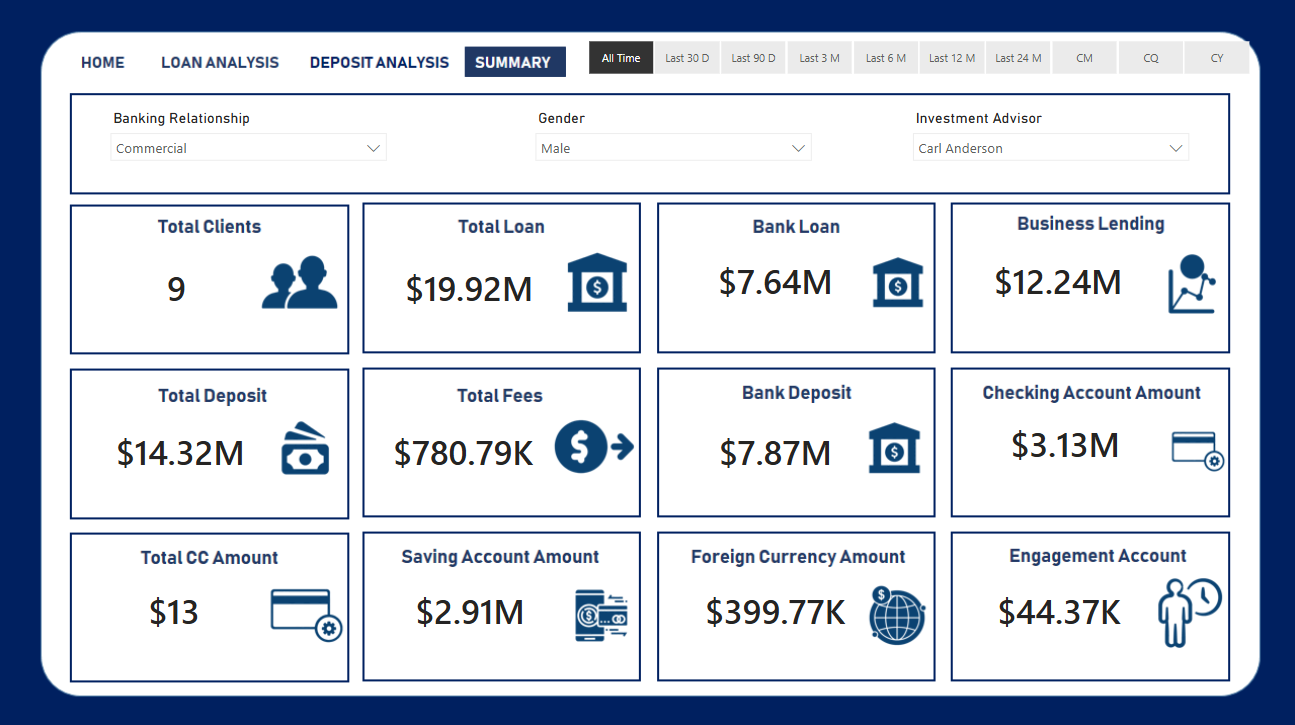

Layout of this report page (visuals, bound fields, positions):
{"tool":"powerbi","page":{"name":"Summary","canvas":[1280,720],"ordinal":3},"visuals":[{"type":"card","fields":{"Values":["DAX Measures.Engagment Length"]},"box":[946.3,546.4,198.2,114.9],"z":0},{"type":"card","fields":{"Values":["DAX Measures.Foreign Currency Account"]},"box":[667.2,546.4,198.2,114.9],"z":1000},{"type":"card","fields":{"Values":["DAX Measures.Bank Deposit"]},"box":[667.2,390.5,198.2,114.9],"z":2000},{"type":"card","fields":{"Values":["DAX Measures.Checking Accounts"]},"box":[953.4,382.3,198.2,114.9],"z":3000},{"type":"card","fields":{"Values":["DAX Measures.Bank Loan"]},"box":[667.2,220.5,198.2,114.9],"z":4000},{"type":"card","fields":{"Values":["DAX Measures.Business Lending"]},"box":[953.4,220.5,184.1,114.9],"z":5000},{"type":"card","fields":{"Values":["DAX Measures.Savings Account"]},"box":[360,546.4,207.6,114.9],"z":6000},{"type":"card","fields":{"Values":["DAX Measures.Total CC Amount"]},"box":[72.7,546.4,198.2,114.9],"z":7000},{"type":"card","fields":{"Values":["DAX Measures.Total Deposit"]},"box":[78.6,390.5,198.2,114.9],"z":8000},{"type":"card","fields":{"Values":["DAX Measures.Total Fees"]},"box":[365.9,390.5,184.1,114.9],"z":9000},{"type":"card","fields":{"Values":["DAX Measures.Total Clients"]},"box":[75,228.7,198.2,114.9],"z":10000},{"type":"card","fields":{"Values":["DAX Measures.Total Loan"]},"box":[365.9,228.7,195.8,114.9],"z":11000},{"type":"slicer","fields":{"Values":["Banking Relationship.Banking Relationship"]},"box":[98.5,104.3,292.9,75.7],"z":12000},{"type":"slicer","fields":{"Values":["Gender.Gender"]},"box":[518.9,104.3,292.9,75.7],"z":13000},{"type":"slicer","fields":{"Values":["Investment Advisor.Investment Advisor"]},"box":[891.3,104.3,292.9,75.7],"z":14000},{"type":"slicer","fields":{"Values":["Period.Name"]},"box":[555.2,34.6,702.1,46.6],"z":15000},{"type":"actionButton","box":[72.8,44.2,58.5,31],"z":16000},{"type":"actionButton","box":[306.9,44.7,119.4,31],"z":17000},{"type":"actionButton","box":[297.9,44.6,147.8,30.5],"z":18000},{"type":"actionButton","box":[157.1,44.6,125.5,30.5],"z":19000}]}

Visuals, with their boxes in screenshot pixels (x1, y1, x2, y2), scaled from the page's 1280x720 canvas onto the 1295x725 screenshot:
card - DAX Measures.Engagment Length: locate(957, 550, 1158, 666)
card - DAX Measures.Foreign Currency Account: locate(675, 550, 876, 666)
card - DAX Measures.Bank Deposit: locate(675, 393, 876, 509)
card - DAX Measures.Checking Accounts: locate(965, 385, 1165, 501)
card - DAX Measures.Bank Loan: locate(675, 222, 876, 338)
card - DAX Measures.Business Lending: locate(965, 222, 1151, 338)
card - DAX Measures.Savings Account: locate(364, 550, 574, 666)
card - DAX Measures.Total CC Amount: locate(74, 550, 274, 666)
card - DAX Measures.Total Deposit: locate(80, 393, 280, 509)
card - DAX Measures.Total Fees: locate(370, 393, 556, 509)
card - DAX Measures.Total Clients: locate(76, 230, 276, 346)
card - DAX Measures.Total Loan: locate(370, 230, 568, 346)
slicer - Banking Relationship.Banking Relationship: locate(100, 105, 396, 181)
slicer - Gender.Gender: locate(525, 105, 821, 181)
slicer - Investment Advisor.Investment Advisor: locate(902, 105, 1198, 181)
slicer - Period.Name: locate(562, 35, 1272, 82)
actionButton: locate(74, 45, 133, 76)
actionButton: locate(310, 45, 431, 76)
actionButton: locate(301, 45, 451, 76)
actionButton: locate(159, 45, 286, 76)
